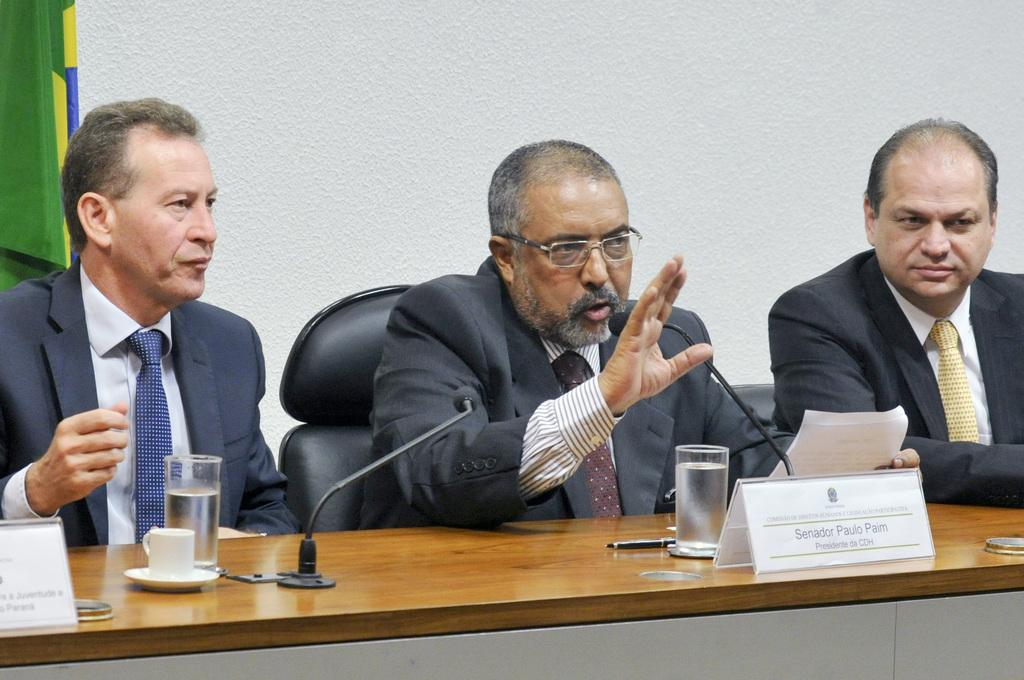Sem Máscara: (512, 178, 631, 342), (108, 133, 215, 301), (873, 152, 986, 296)
